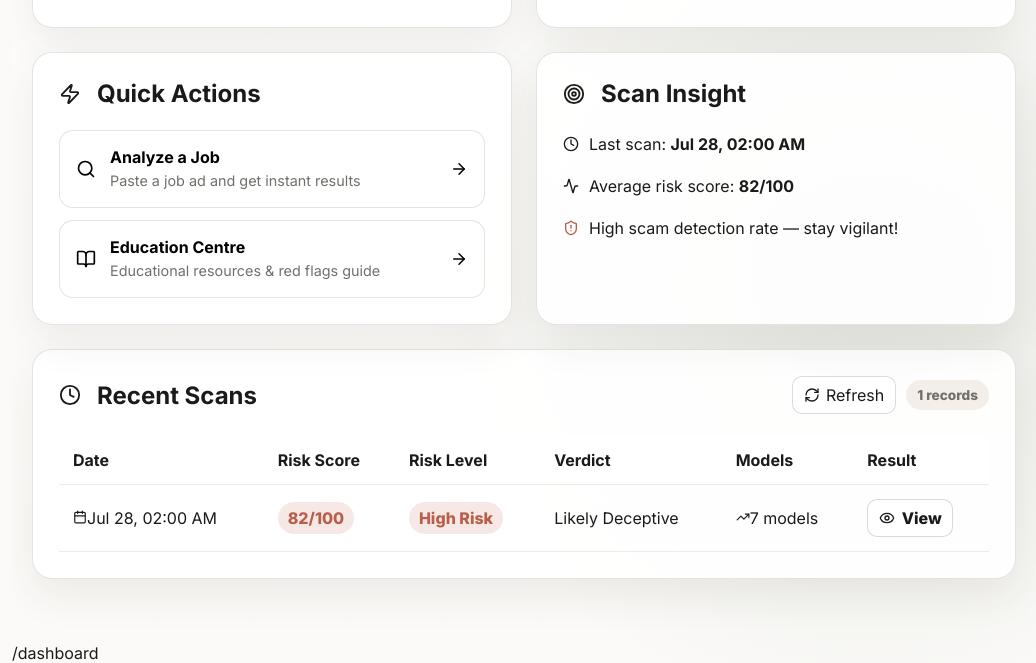
Test: opens a complete server history result that is not cached on this device
(page scrolled)
Click the button with aria-label "Open full analysis result".
click(910, 518)  # box [867,499,953,537]
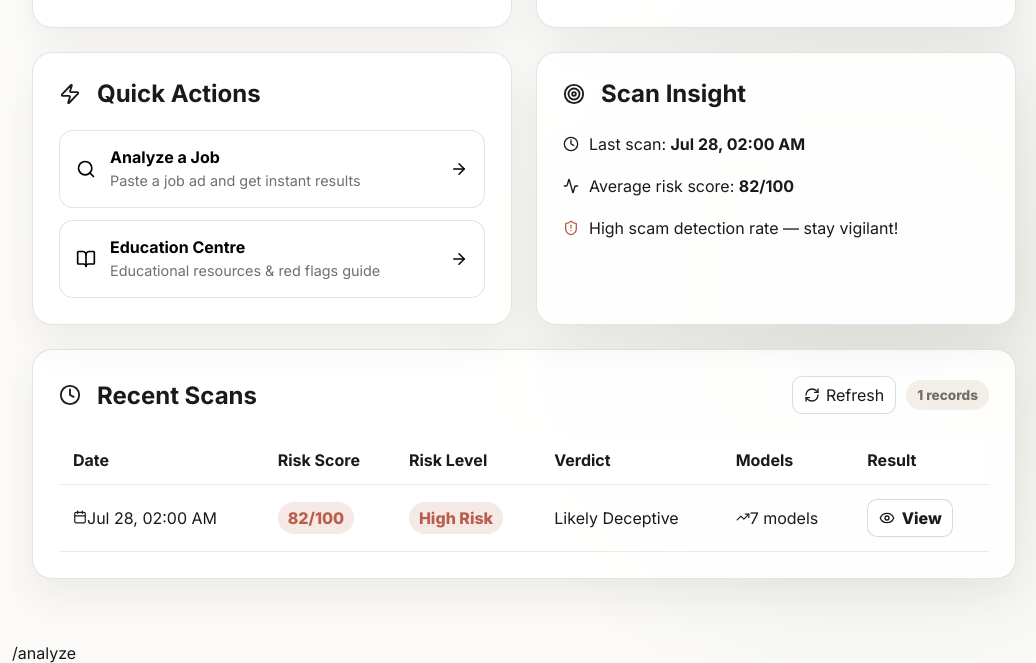
expect the text with test id "current-location" reads "/analyze": met, box [12,643,76,662]
